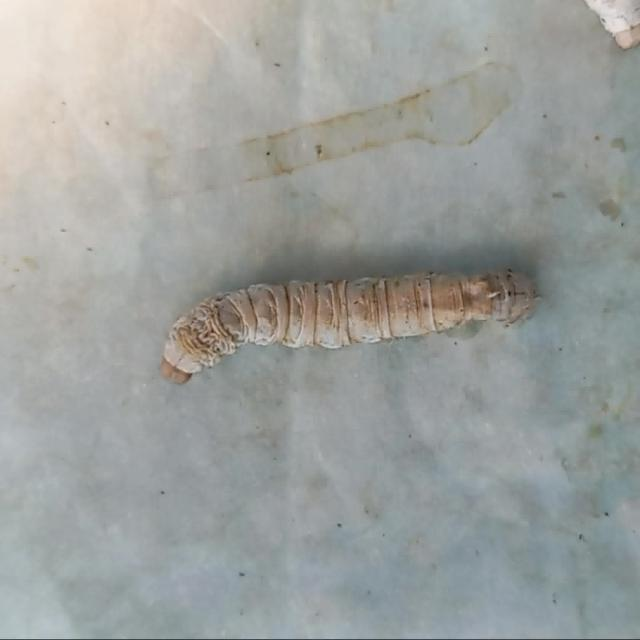Grasserie: (132, 242, 564, 402)
